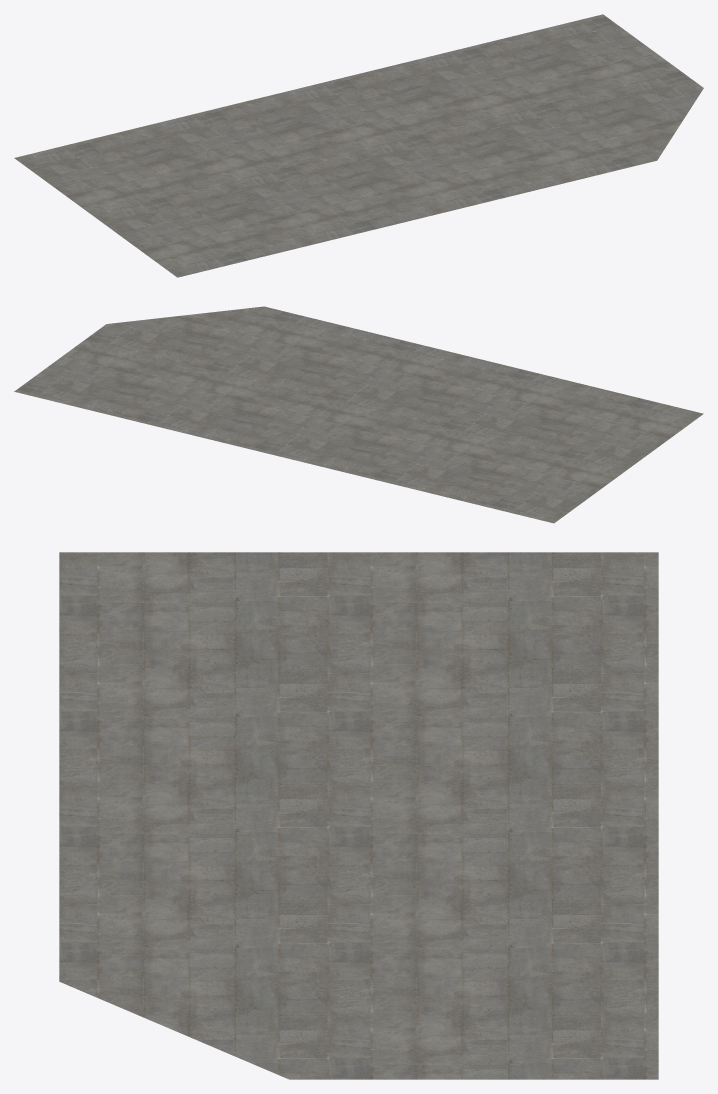
File: bg_lut_lucastle_mainfloor02_sm_jjy.FBX
The picture shows the model from 3 angles, top to bottom: view 1: azimuth 30°, elevation 25°; view 2: azimuth 150°, elevation 25°; view 3: azimuth 270°, elevation 25°; orthographic projection. The views are drawn at different scales.
Visible parts, largest first — view 1: bg_lut_lucastle_mainfloor02_sm_jjy; view 2: bg_lut_lucastle_mainfloor02_sm_jjy; view 3: bg_lut_lucastle_mainfloor02_sm_jjy.
Part boxes in pixels (x1,y1,x2,y2): bg_lut_lucastle_mainfloor02_sm_jjy: [14, 14, 703, 277]; bg_lut_lucastle_mainfloor02_sm_jjy: [14, 306, 703, 523]; bg_lut_lucastle_mainfloor02_sm_jjy: [59, 552, 658, 1079].
Size of the model in its own units: 2777 by 0.000486 by 1335.
